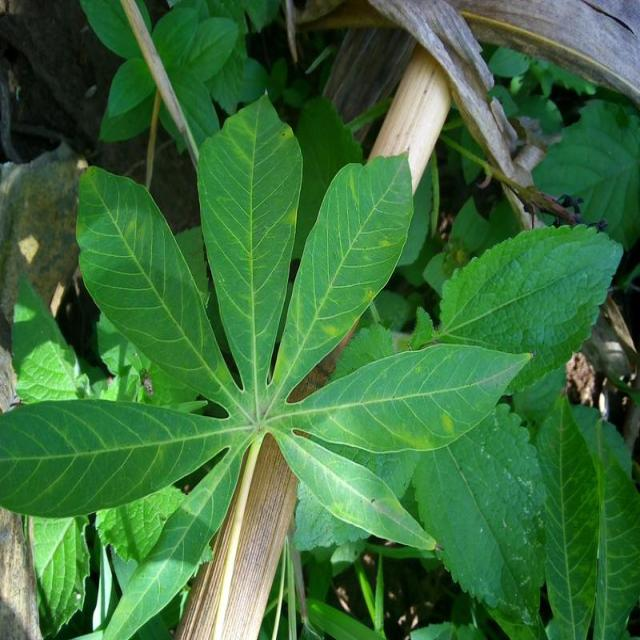cassava leaf: (1, 87, 622, 637), (269, 149, 414, 402), (195, 90, 303, 399), (436, 221, 623, 392)
